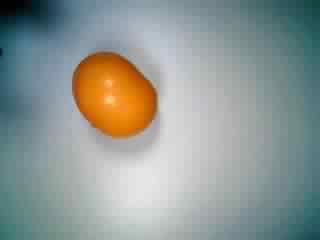orange: (66, 44, 163, 138)
